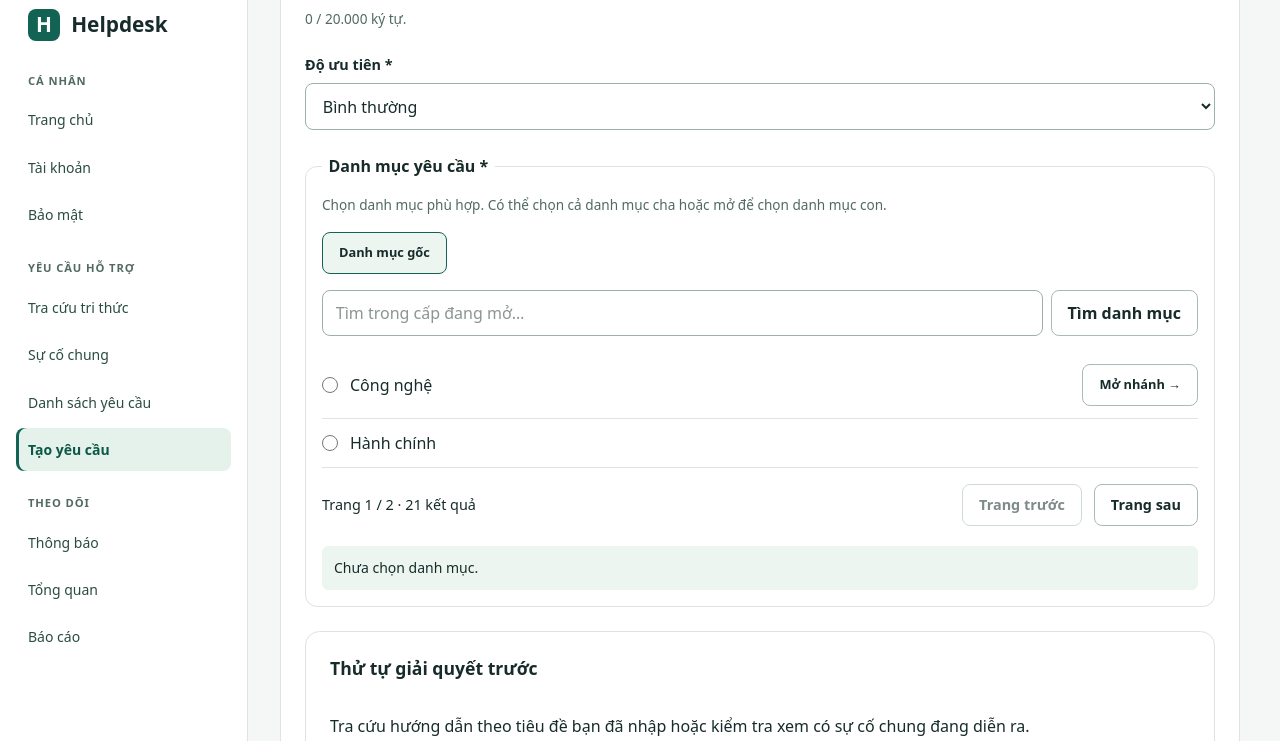
Test: create Ticket routing and paged category picker › hides a stale branch response when a user returns to roots before it arrives
(page scrolled)
Expected: the radio button labelled "Hành chính" is shown, [322,435,338,451]
Click the button with aria-label "Mở danh mục Công nghệ" at (1140, 385), box [1082,364,1198,406]
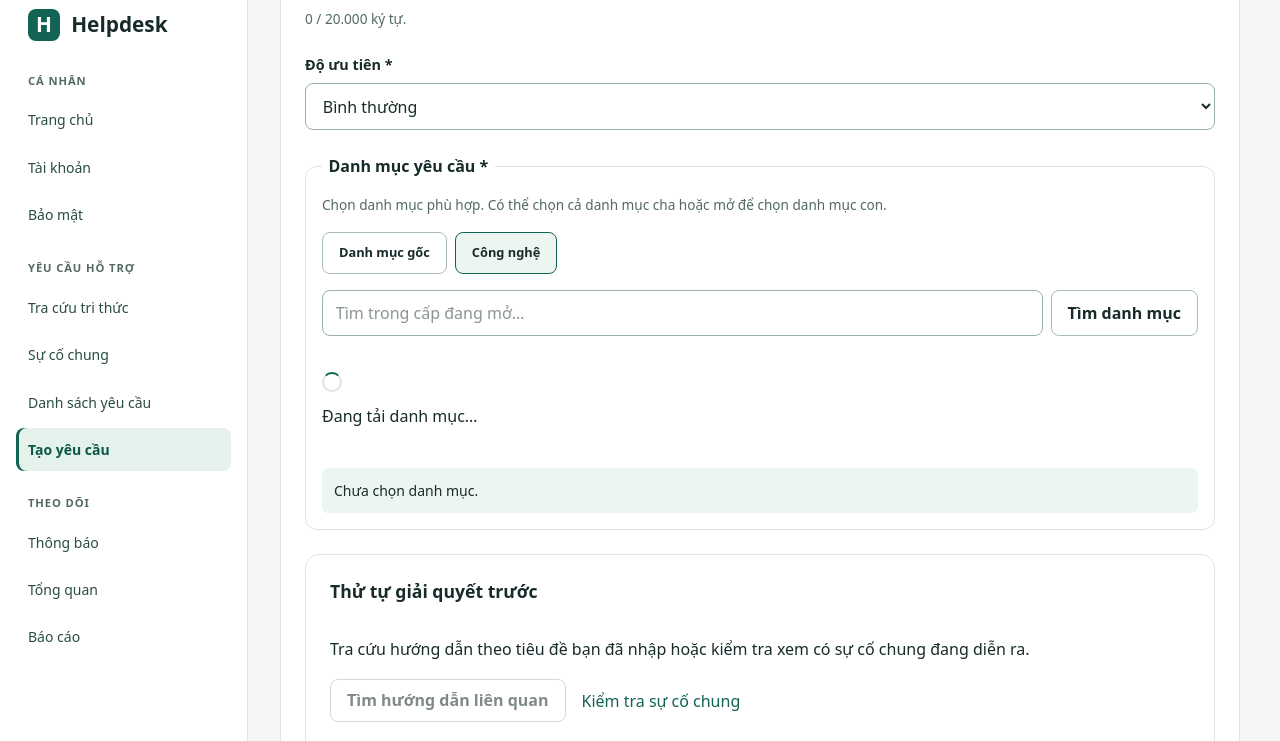
Result: the text "Đang tải danh mục…" is shown at [322,372,478,427]
Click the button "Danh mục gốc" at (384, 253), box [322,232,447,274]
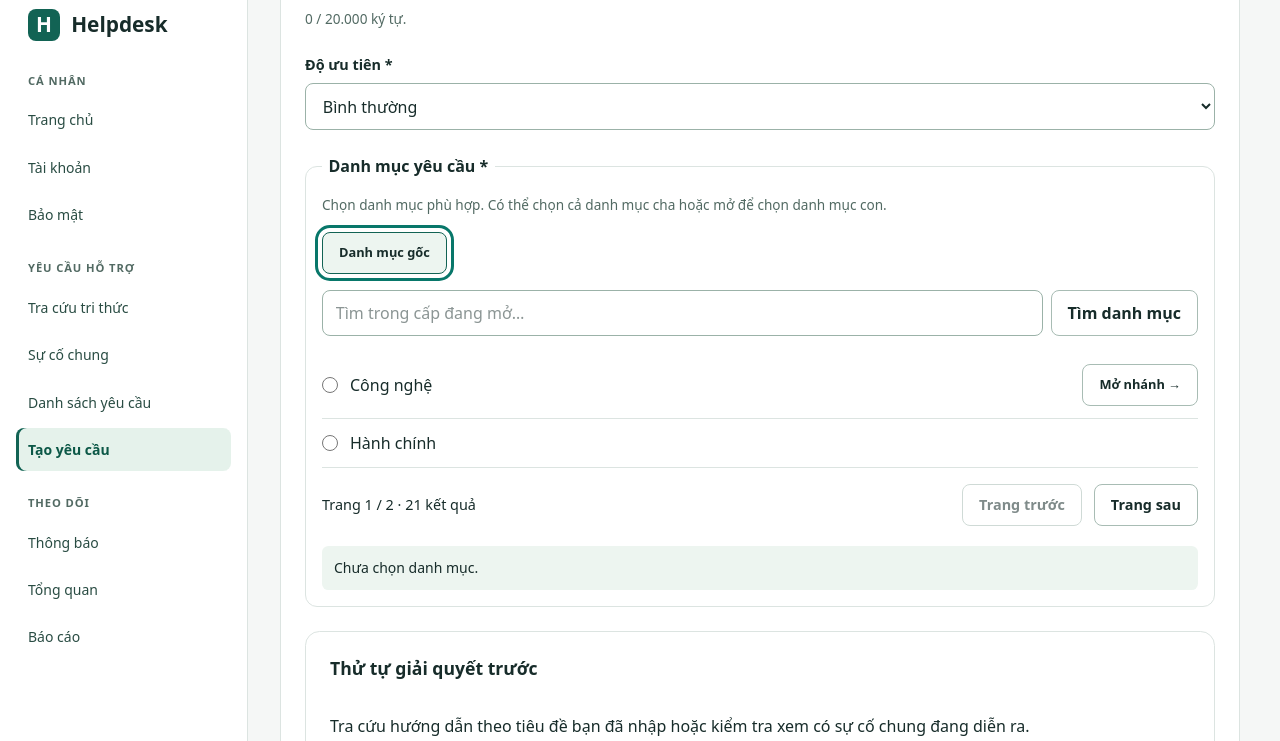
Result: the radio button labelled "Hành chính" is shown at [322,435,338,451]
